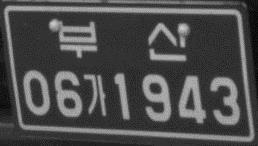0: (21, 67, 50, 117)
1: (110, 69, 134, 121)
3: (209, 74, 241, 128)
4: (174, 73, 208, 126)
6: (53, 67, 85, 118)
9: (140, 72, 172, 123)
가: (83, 71, 109, 120)
부산_D: (54, 17, 189, 64)
